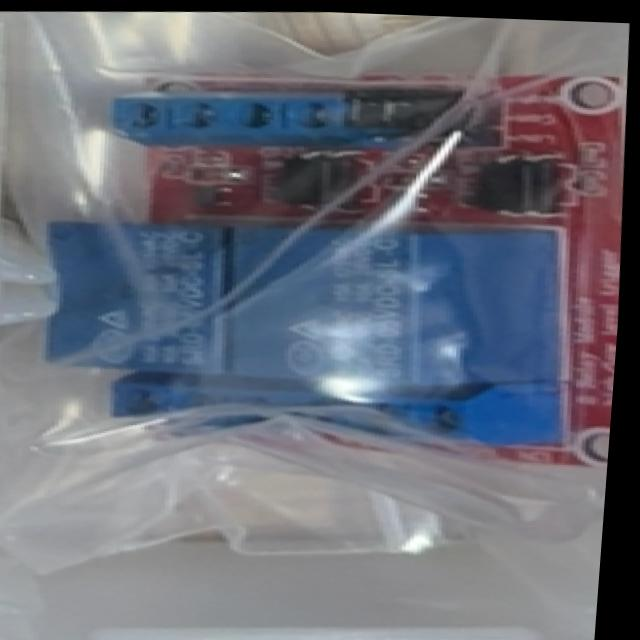Relay: (26, 51, 636, 492)
